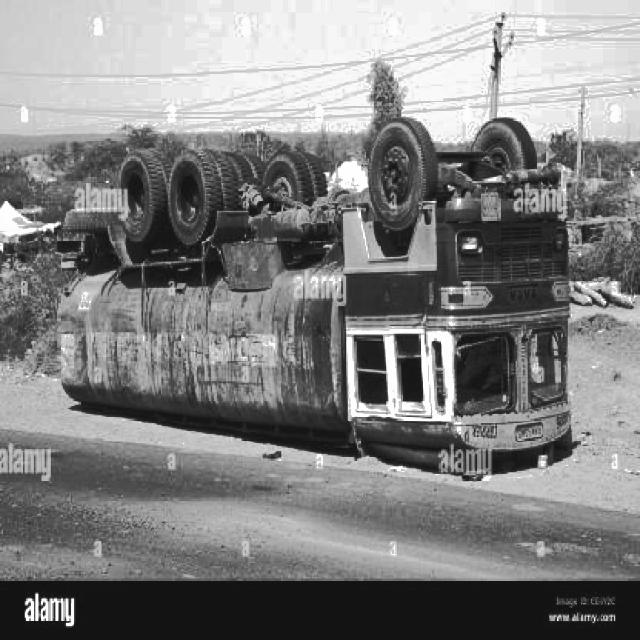HCV: (83, 154, 563, 458)
